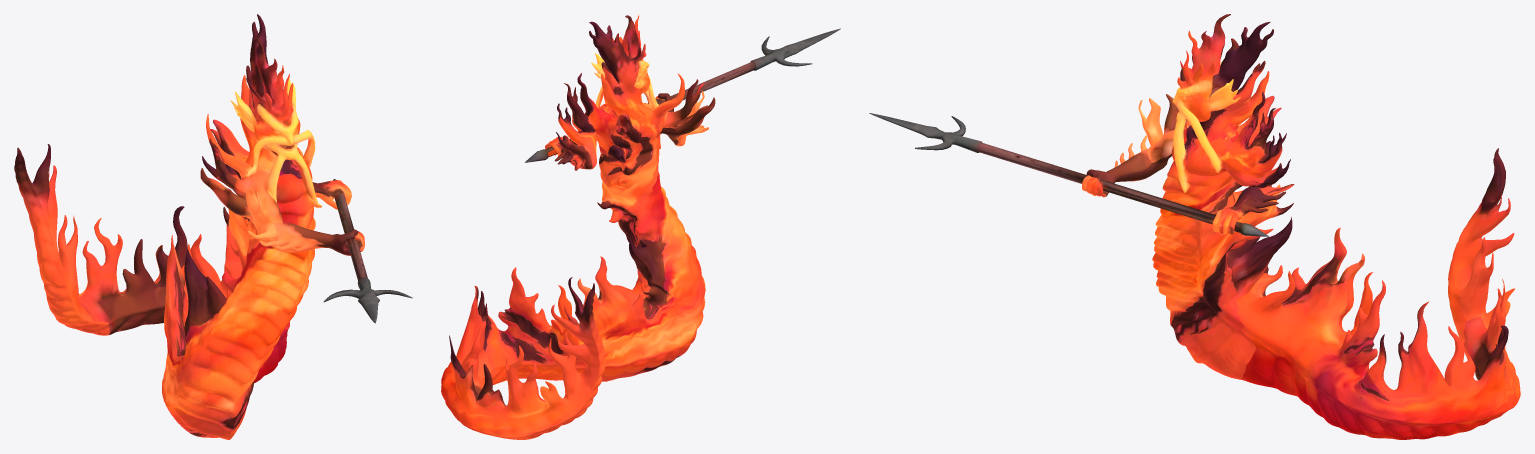
The model's file is MZ4250 - Salamander.glb.
3 views of the same model, side by side, from view 1: azimuth 30°, elevation 25°; view 2: azimuth 150°, elevation 25°; view 3: azimuth 270°, elevation 25° (orthographic). The views are drawn at different scales.
Visible parts, largest first — view 1: default; view 2: default; view 3: default.
Boxes of the visible parts, <box> form: default: <box>14,14,412,439</box>; default: <box>441,14,840,439</box>; default: <box>869,14,1520,439</box>.
Size of the model in its own units: 0.7148 by 1.25 by 1.95.
1 material, 1 textured.
